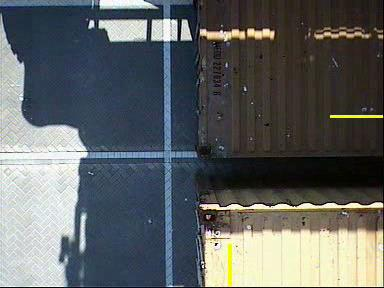groundmarker_2: (139, 96, 212, 145), (140, 232, 212, 281)
